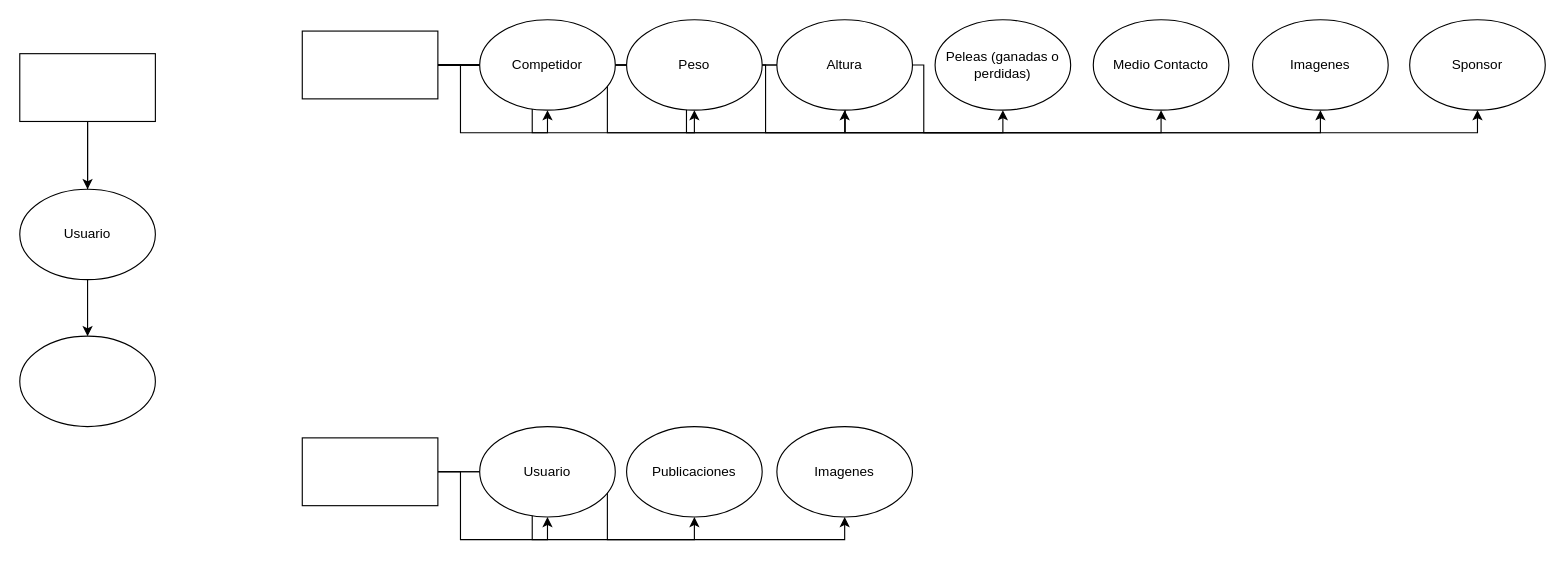
The diagram is 1565 pixels wide and 568 high, and some of its shapes have lost their labels. Each missing label, with the centre of its shape:
"Contraseña" belongs at (87,381).
"Logeo" belongs at (87,87).
"Tabla Competidores" belongs at (369,64).
"Tabla Foro" belongs at (369,471).
